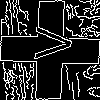V: (25, 25, 72, 61)
